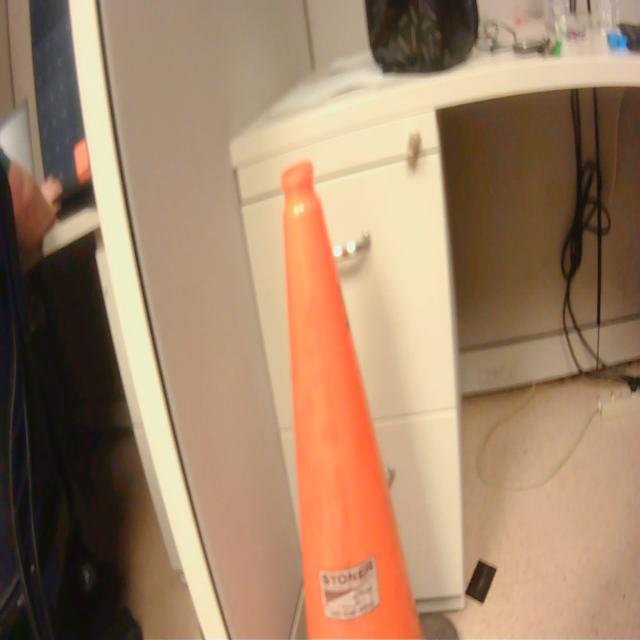traffic cone: (274, 152, 465, 640)
